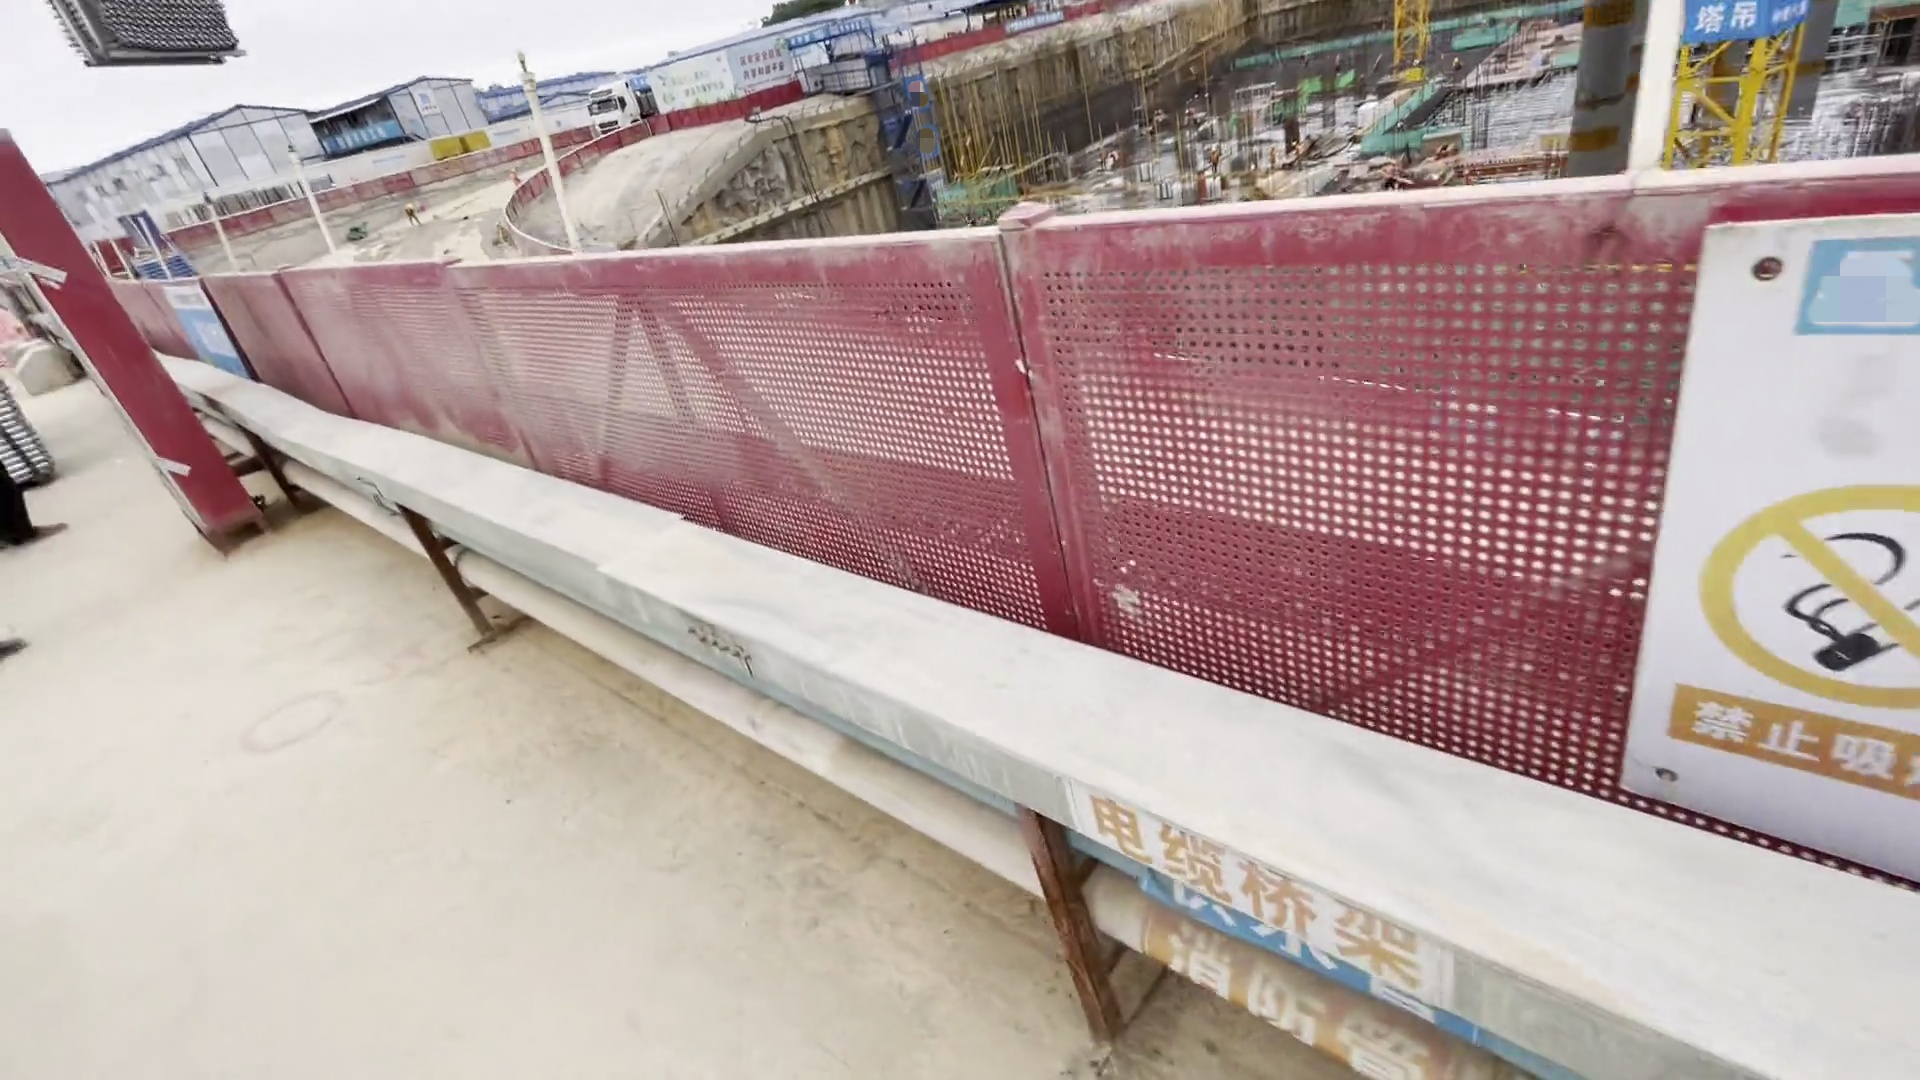fence: (73, 218, 1602, 789)
scaffold: (62, 1, 239, 76)
slogan: (1654, 228, 1920, 808), (669, 24, 785, 111), (164, 272, 243, 396), (306, 98, 417, 178)
